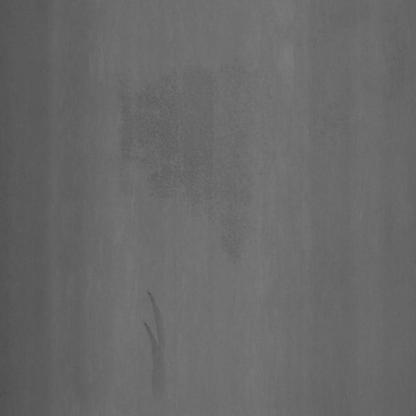water_spot: (137, 281, 168, 387)
